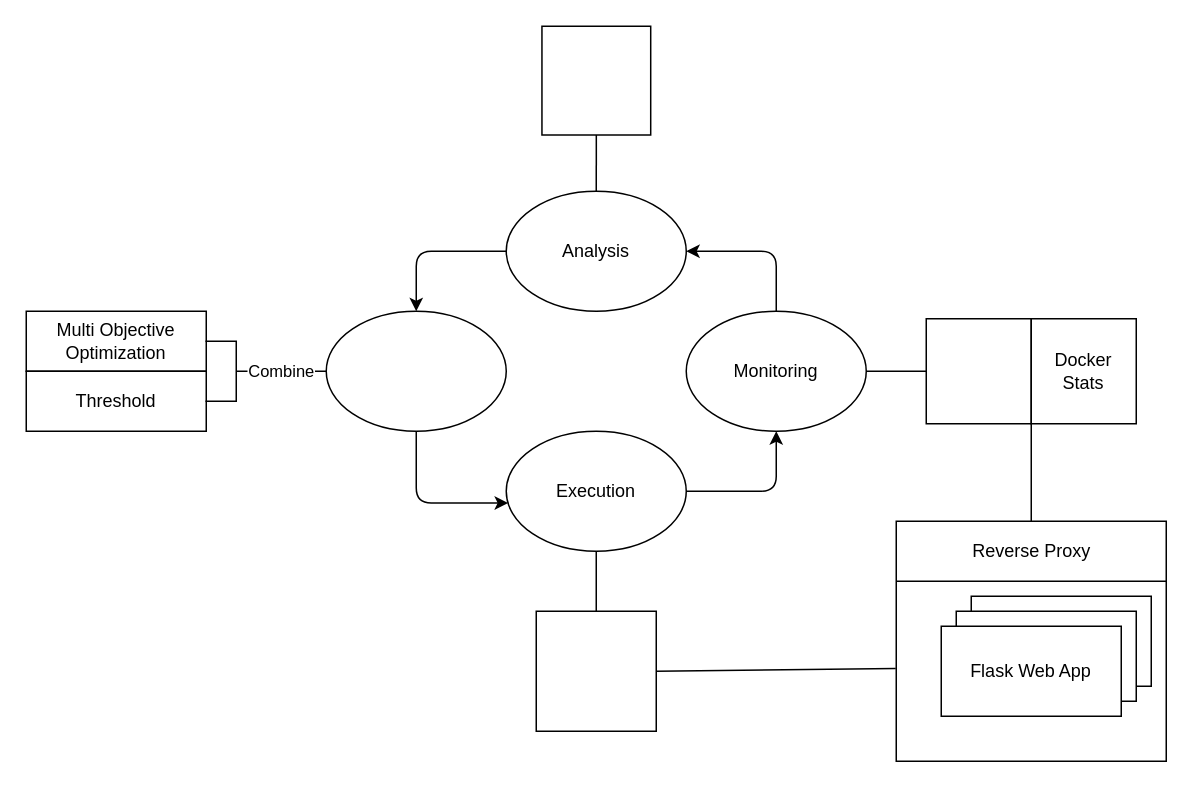
The diagram is 1194 pixels wide and 788 high, and some of its shapes have lost their labels. The shapes that lost their labels are listed below. From the top down, each one's centre as x and y in pixels, then its label:
At (x=595, y=80): "Threshold Analysis".
At (x=415, y=370): "Planning".
At (x=978, y=370): "Apache Bench".
At (x=595, y=670): "Docker Compose".
